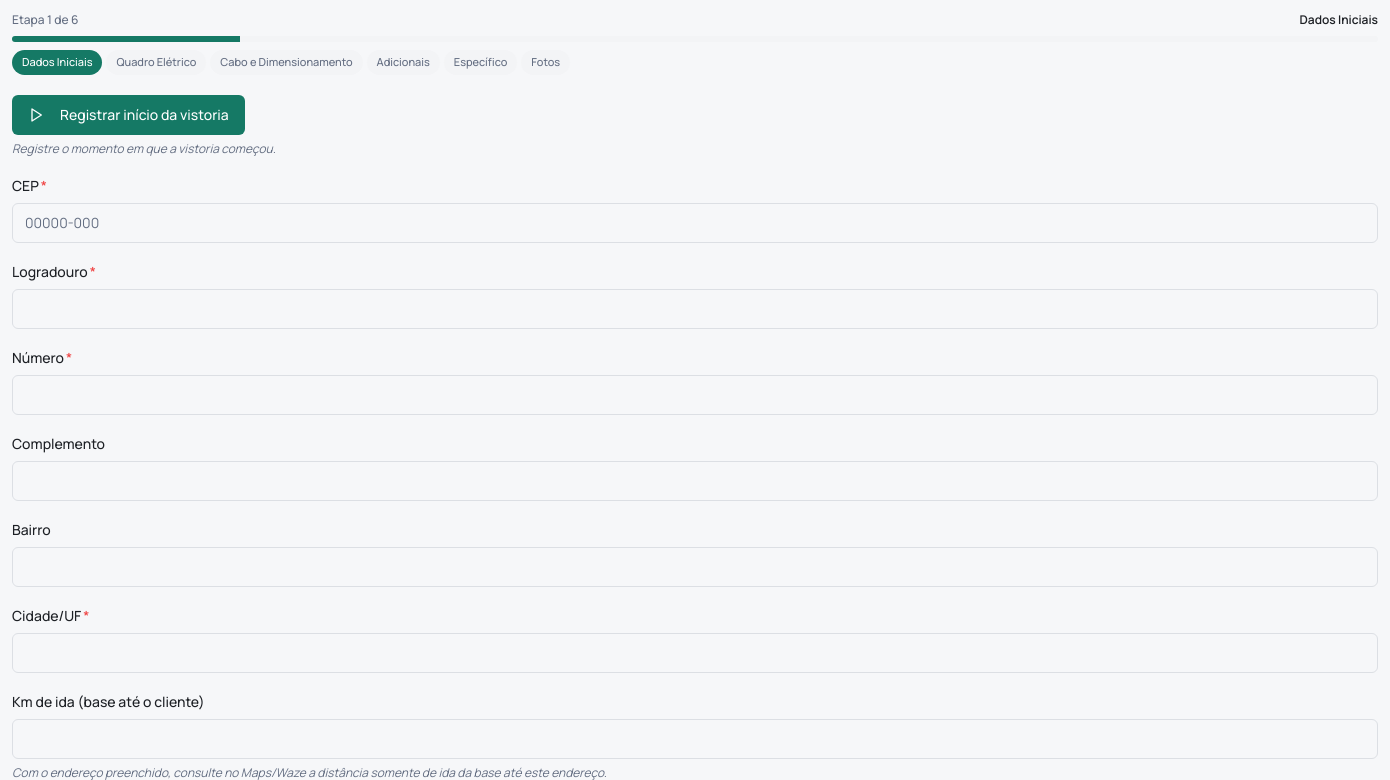
Scenario: Checklist guiado — Vistoria EV › exibe lista binária SIM/NÃO na etapa Adicionais
The width and height of the screenshot is (1390, 780).
Click the button "Adicionais" at x=403, y=62, box [367,50,440,74]
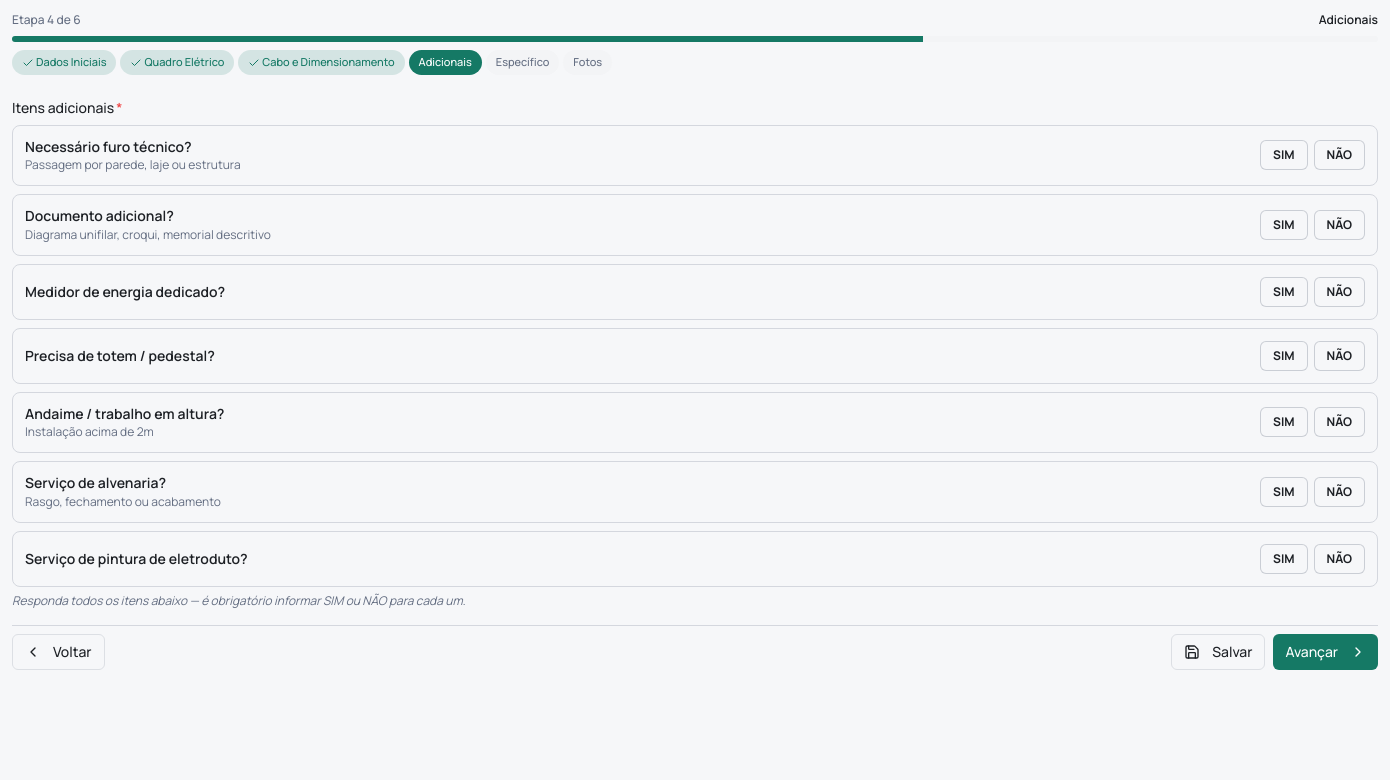
Expected: the text "Necessário furo técnico?" is shown, [25,136,192,156]
Expected: the number of buttons "SIM" is 7
Expected: the number of buttons "NÃO" is 7
